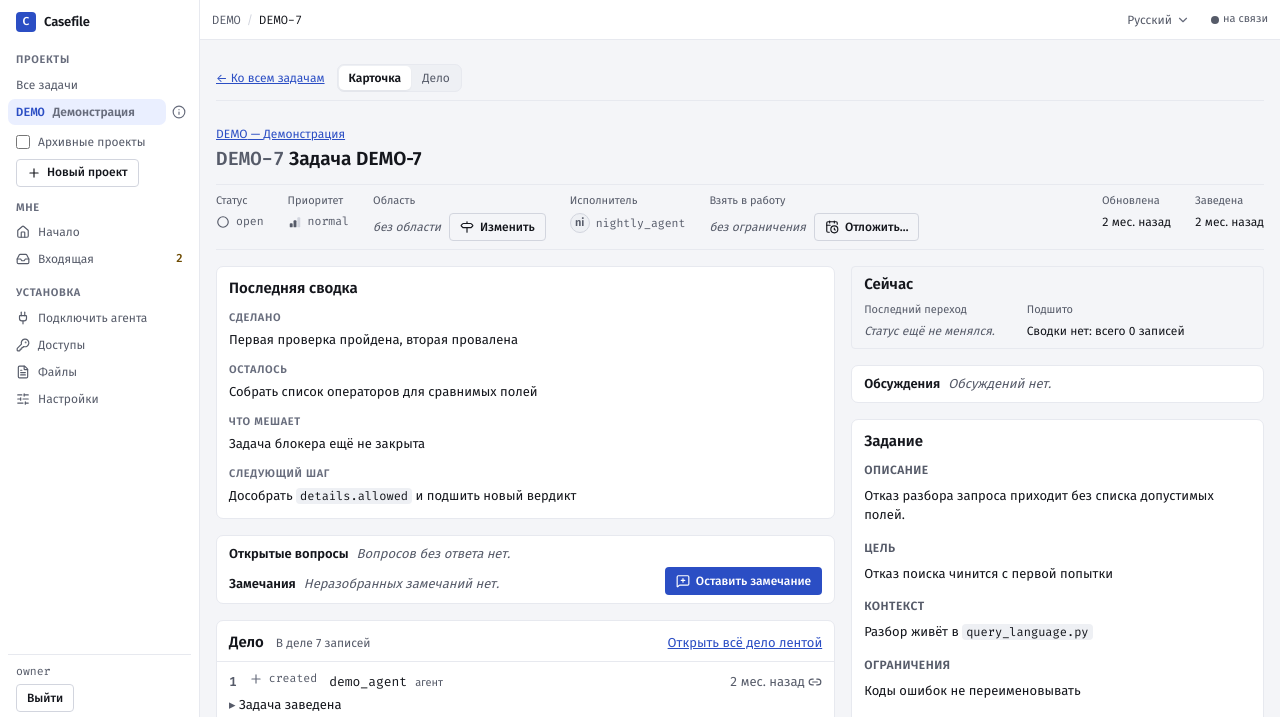
Scenario: момент «можно взять с …» в карточке задачи › пустое поле не уходит запросом и просит дату словами
Click the button "Отложить…" at (867, 227), box [814,213,920,241]
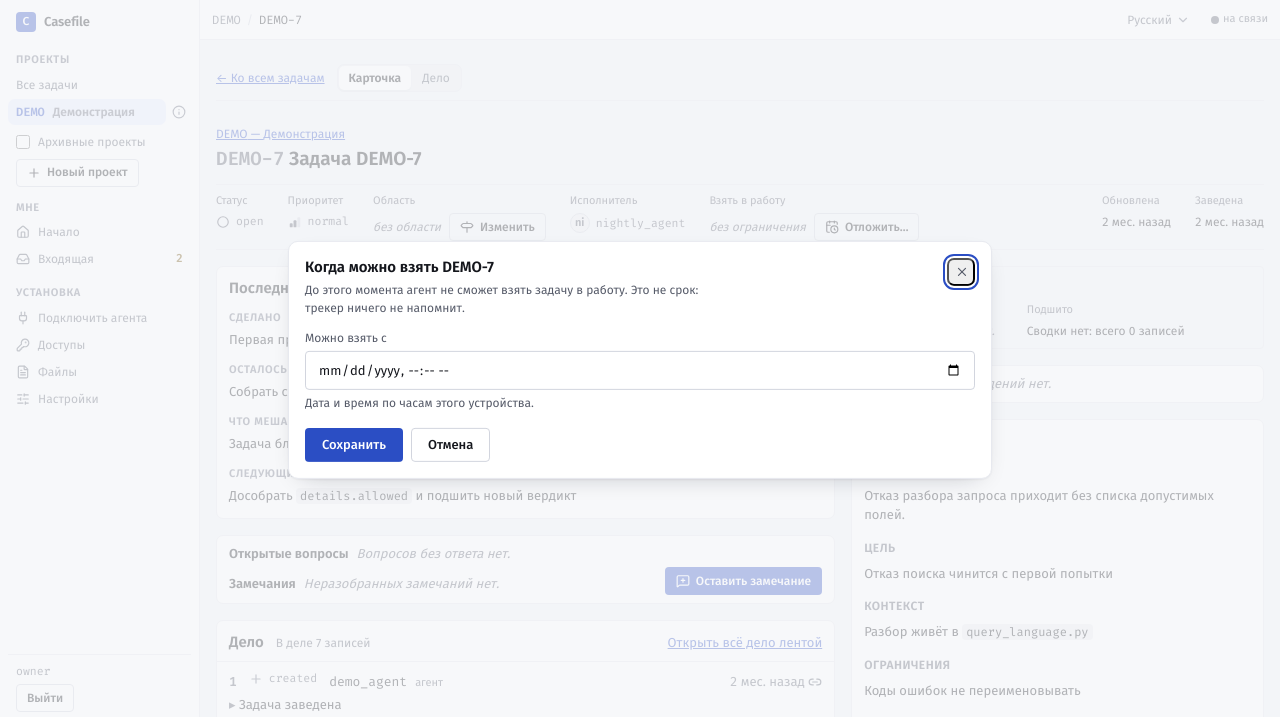
Click the button "Сохранить" at (354, 445), box [305,428,403,462]
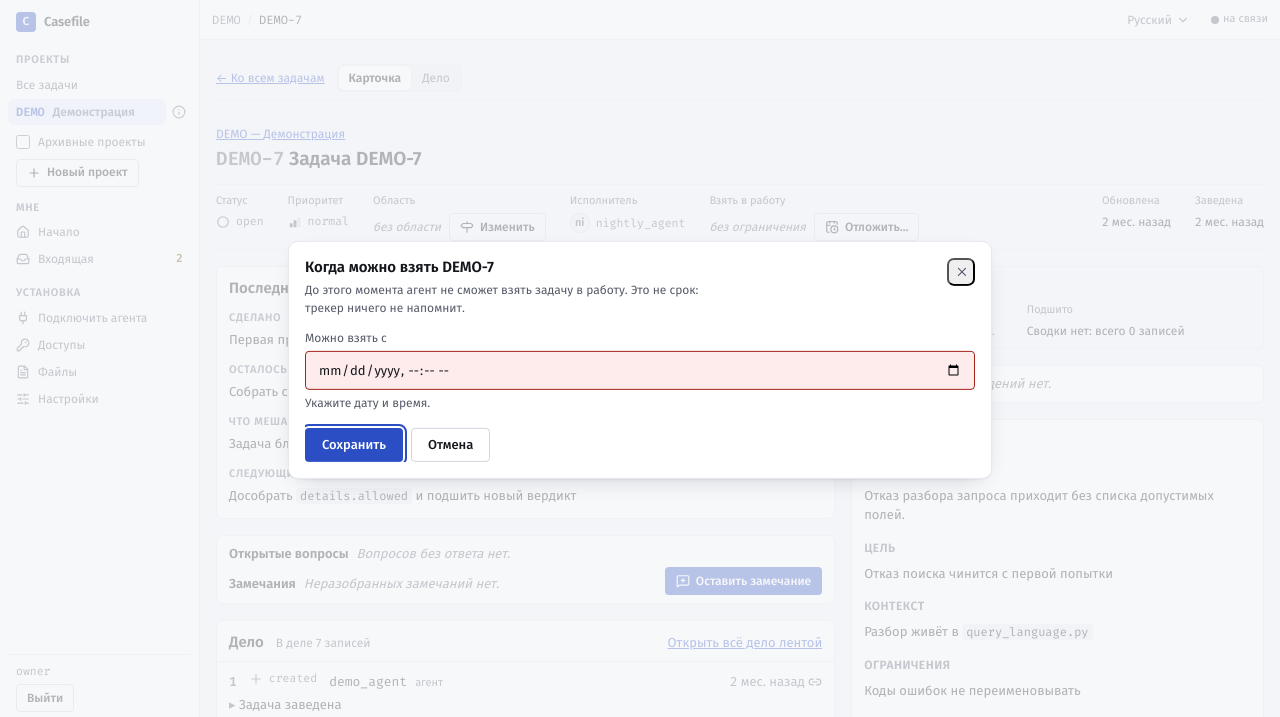
Expected: the text "Укажите дату и время." is shown, [305,396,430,410]
